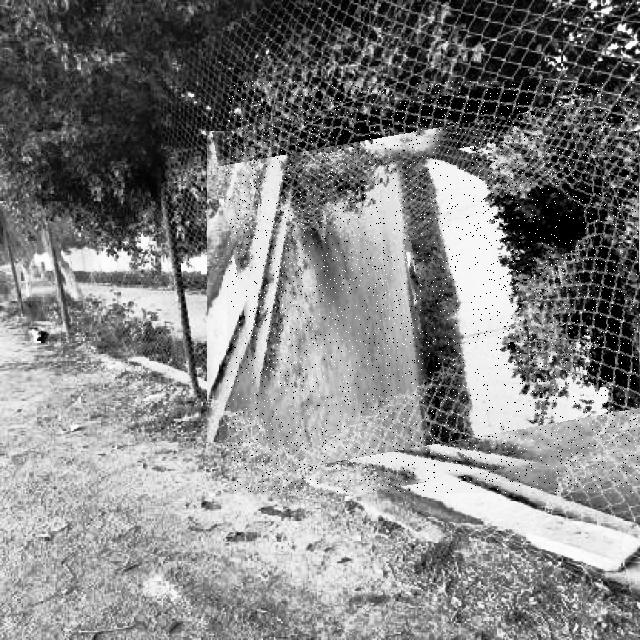anomaly-fence: (227, 81, 638, 493)
